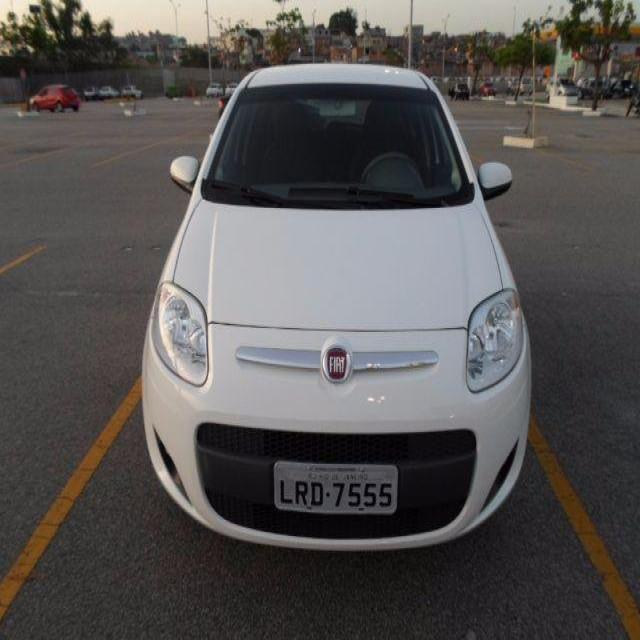Placa: (272, 457, 401, 519)
